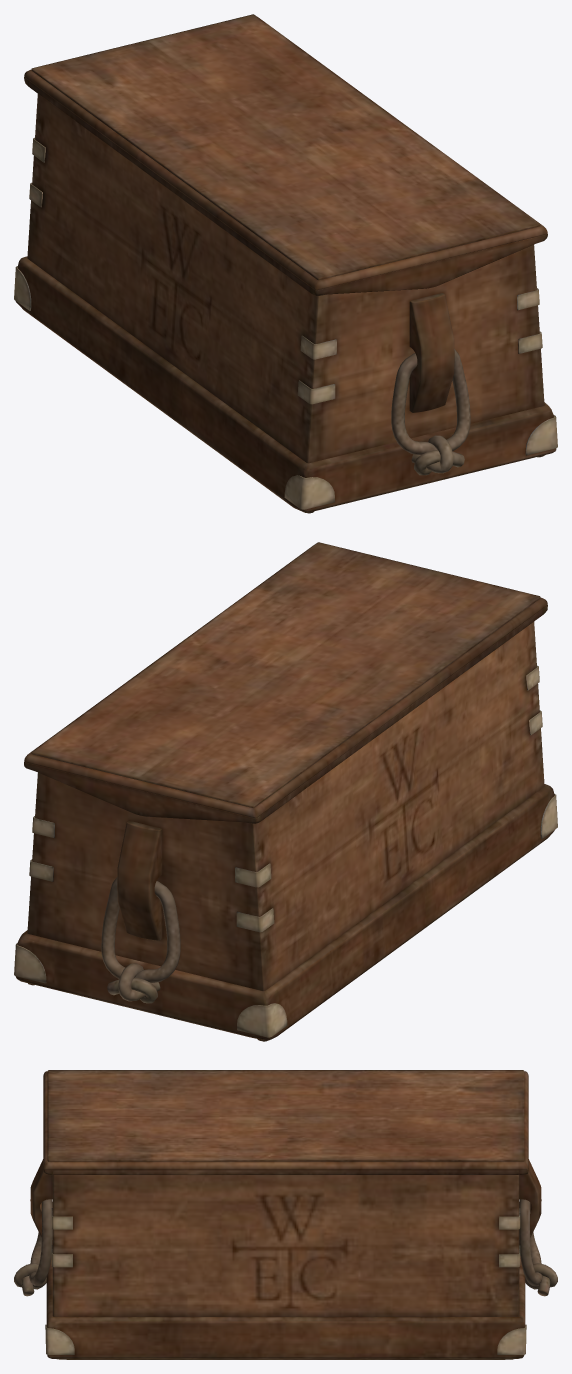
File: wooden_crate_02.glb
3 views of the same model, one above another, from view 1: azimuth 30°, elevation 25°; view 2: azimuth 150°, elevation 25°; view 3: azimuth 270°, elevation 25° (orthographic). The views are drawn at different scales.
Parts seen in each view (by area): view 1: wooden_crate_02_crate, wooden_crate_02_lid; view 2: wooden_crate_02_crate, wooden_crate_02_lid; view 3: wooden_crate_02_crate, wooden_crate_02_lid.
Boxes of the visible parts, x1,y1,x2,y2 form: wooden_crate_02_crate: [14, 94, 557, 513]; wooden_crate_02_lid: [24, 14, 547, 296]; wooden_crate_02_crate: [14, 621, 557, 1041]; wooden_crate_02_lid: [24, 542, 547, 823]; wooden_crate_02_crate: [14, 1159, 557, 1359]; wooden_crate_02_lid: [43, 1070, 528, 1174].
Bounding box in the file's own units: 0.5291 × 0.464 × 1.17.
1 material, 1 textured.
